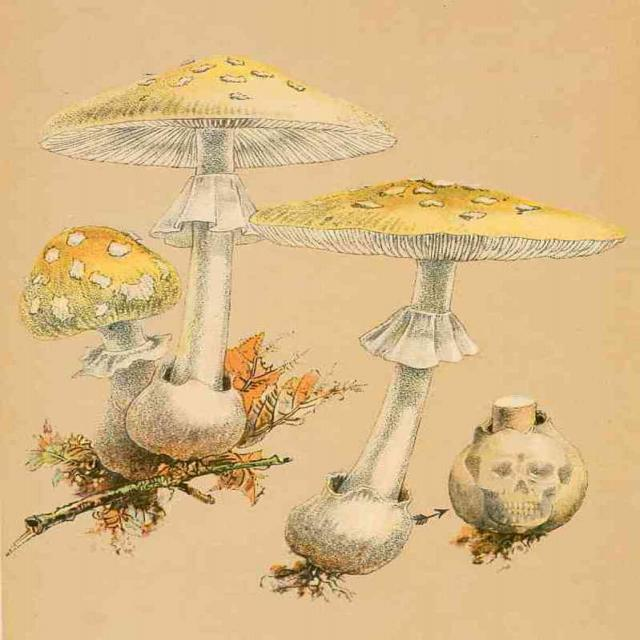mushroom: (36, 55, 397, 461), (262, 163, 616, 423), (16, 222, 181, 486), (449, 396, 587, 558)
